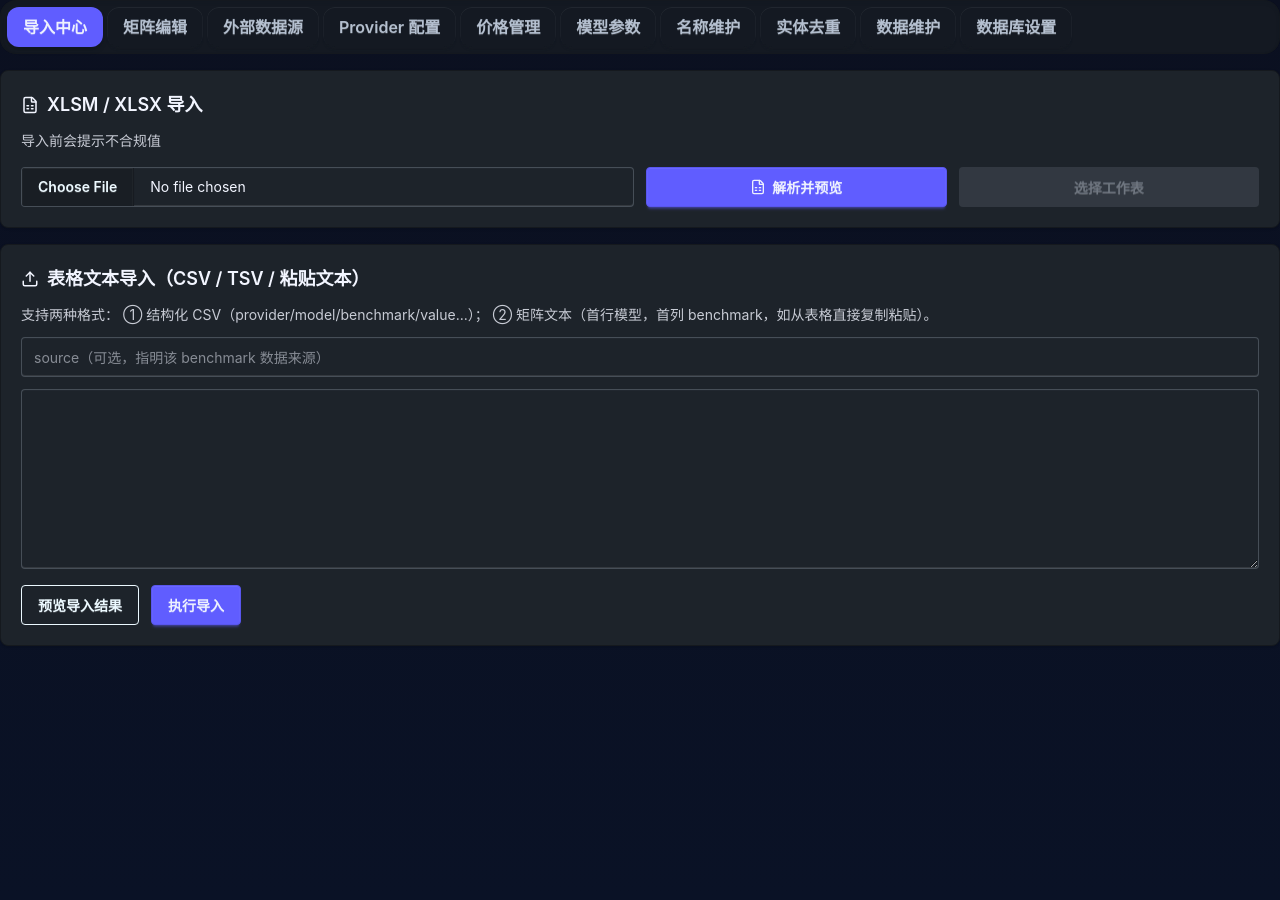
Test: AdminConsole records tab › 批量归一化触发 API 并提示成功
Step 1. Click the tab "矩阵编辑" → (155, 27), box [107,7,203,47]
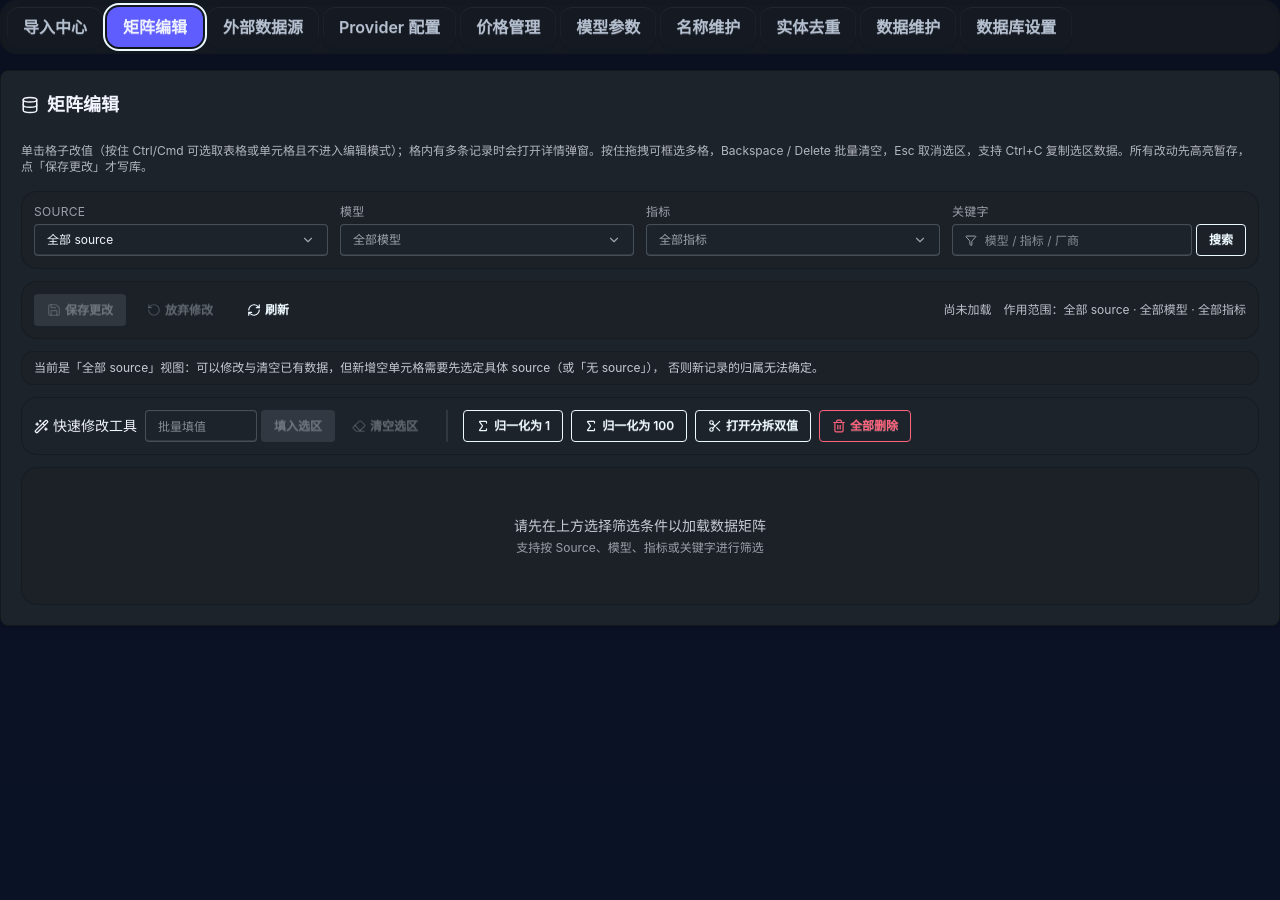
Step 2. Click the button with aria-label "Source 筛选" → (80, 240), box [34,224,328,256]
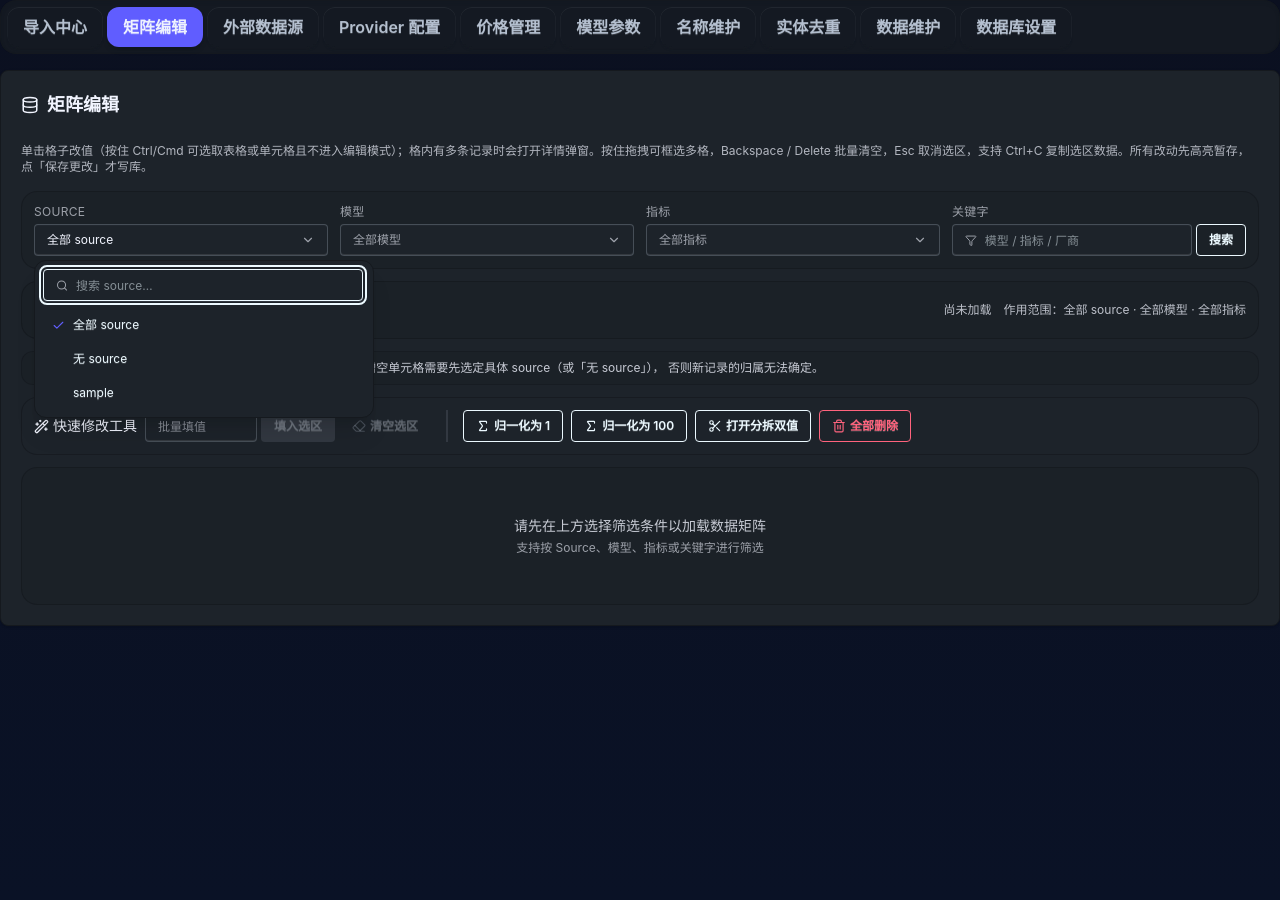
Step 3. Click the 2nd button "全部 source" → (106, 324), box [43,309,365,341]
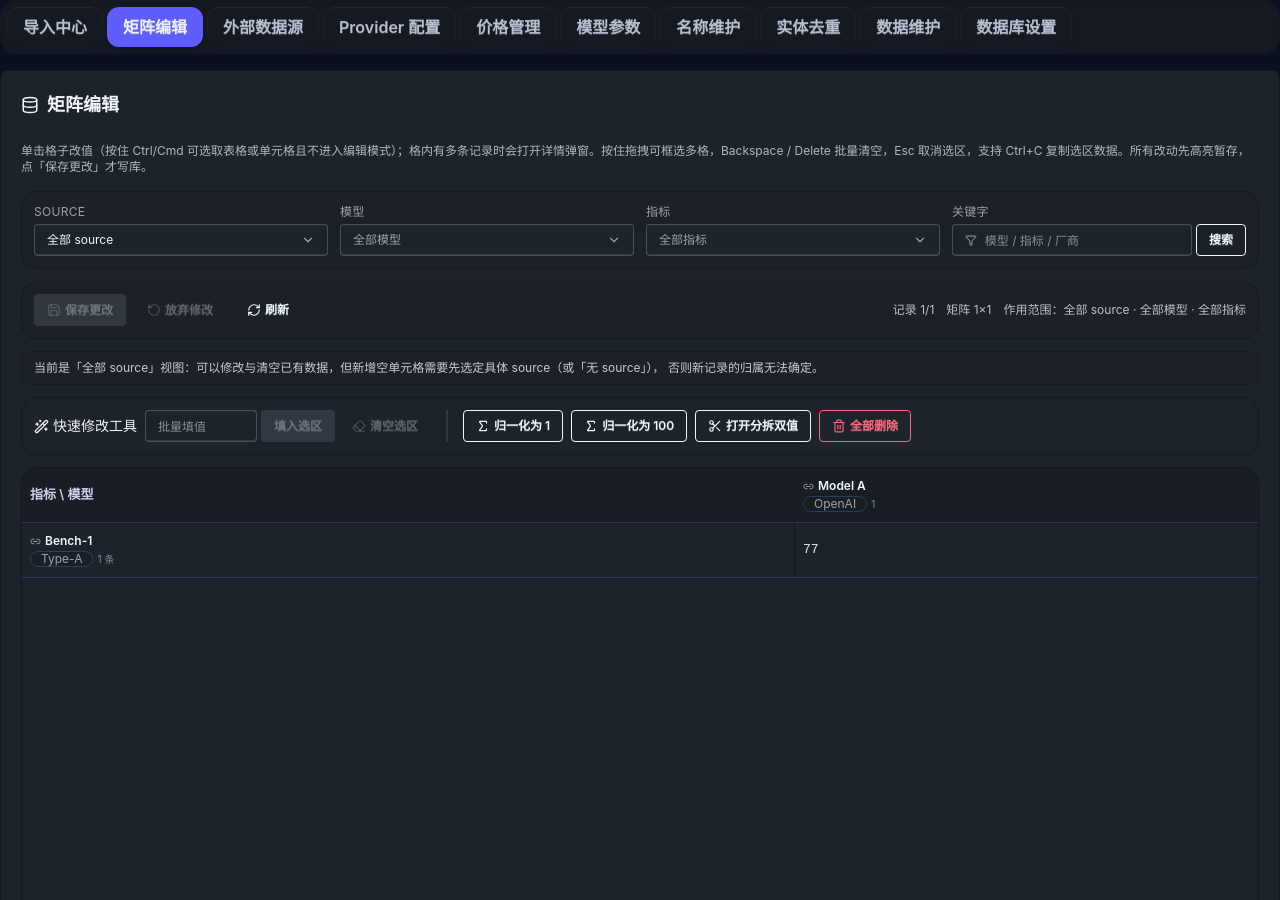
Expected: the cell with test id "record-cell-1-11" is shown, [794,522,1258,578]
Step 4. Click the button "归一化为 1" → (513, 426), box [463,410,563,442]
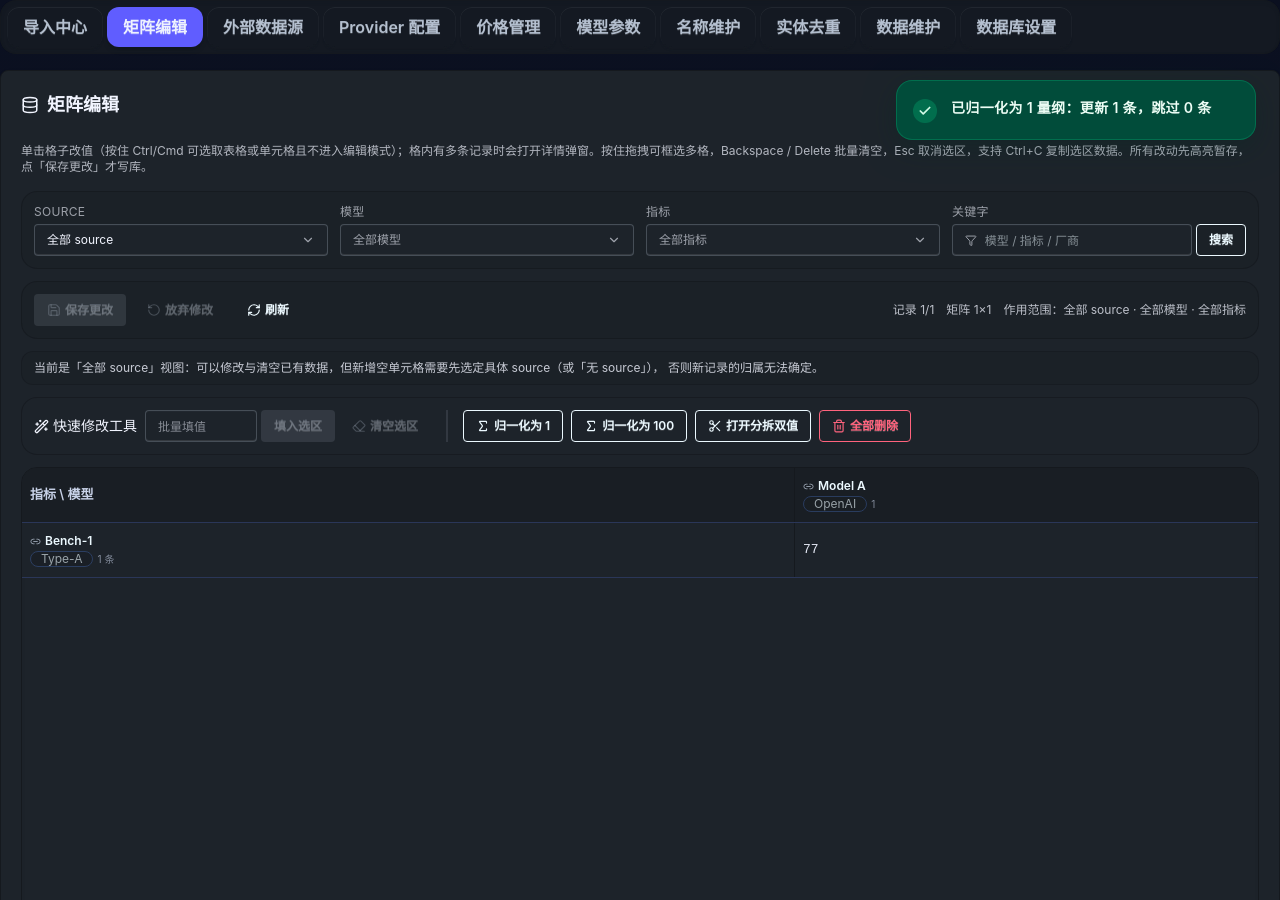
Expected: the text "已归一化为 1 量纲：更新 1 条，跳过 0 条" is shown, [951,97,1239,118]
